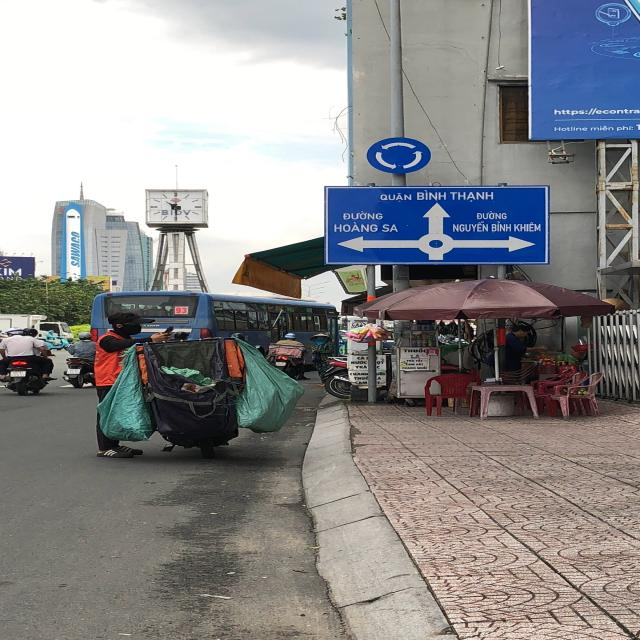Bien bao noi giao nhau chay theo vong xuyen: (364, 133, 436, 176)
